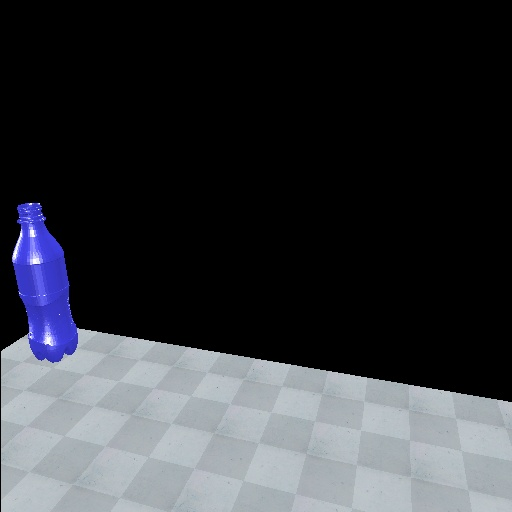bottle: (11, 197, 81, 363)
